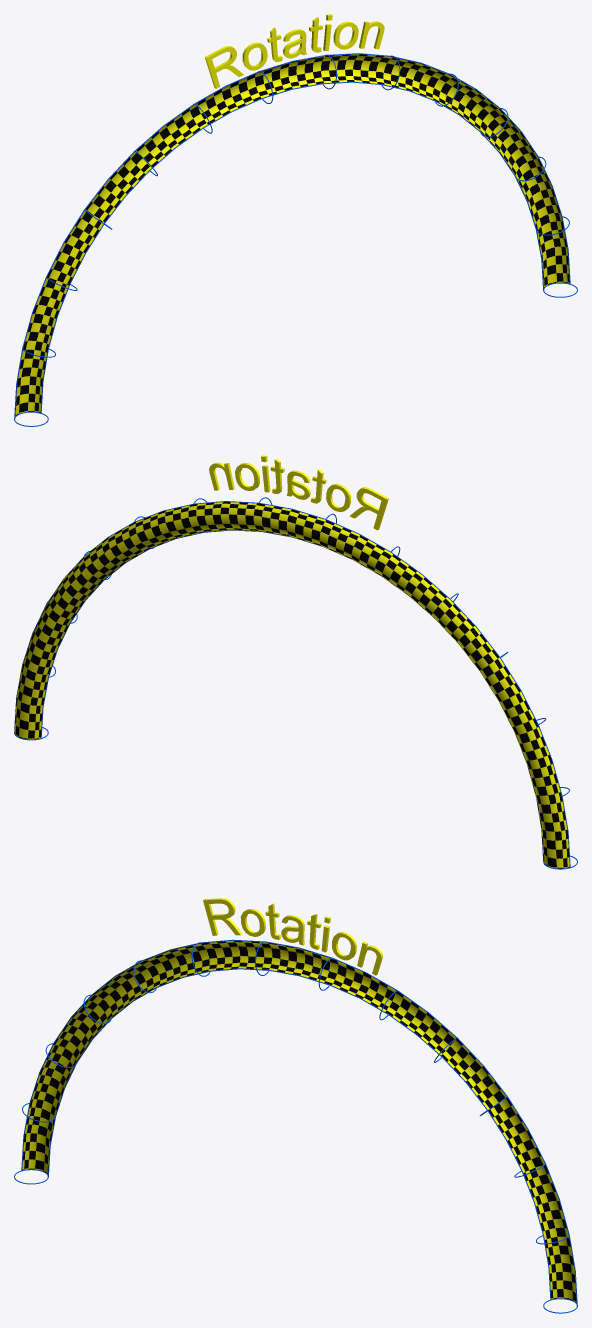
File: Rotation.obj
3 views of the same model, one above another, from view 1: azimuth 30°, elevation 25°; view 2: azimuth 150°, elevation 25°; view 3: azimuth 330°, elevation 25° (orthographic).
Parts seen in each view (by area): view 1: IndexedFaceSet__1, IndexedFaceSet, IndexedFaceSet__4, IndexedFaceSet__2; view 2: IndexedFaceSet__1, IndexedFaceSet, IndexedFaceSet__4, IndexedFaceSet__2; view 3: IndexedFaceSet__1, IndexedFaceSet, IndexedFaceSet__4, IndexedFaceSet__2.
Part boxes in pixels (bbox=[...]): IndexedFaceSet__1: bbox=[15, 54, 569, 415]; IndexedFaceSet: bbox=[204, 14, 384, 88]; IndexedFaceSet__4: bbox=[14, 53, 570, 419]; IndexedFaceSet__2: bbox=[40, 81, 543, 412]; IndexedFaceSet__1: bbox=[14, 501, 569, 868]; IndexedFaceSet: bbox=[209, 455, 388, 530]; IndexedFaceSet__4: bbox=[14, 501, 570, 867]; IndexedFaceSet__2: bbox=[40, 530, 543, 860]; IndexedFaceSet__1: bbox=[22, 940, 576, 1302]; IndexedFaceSet: bbox=[203, 898, 382, 975]; IndexedFaceSet__4: bbox=[21, 939, 577, 1306]; IndexedFaceSet__2: bbox=[48, 968, 551, 1299].
Bounding box in the file's own units: 19.08 × 10.86 × 1.03.
3 materials, 1 textured.
